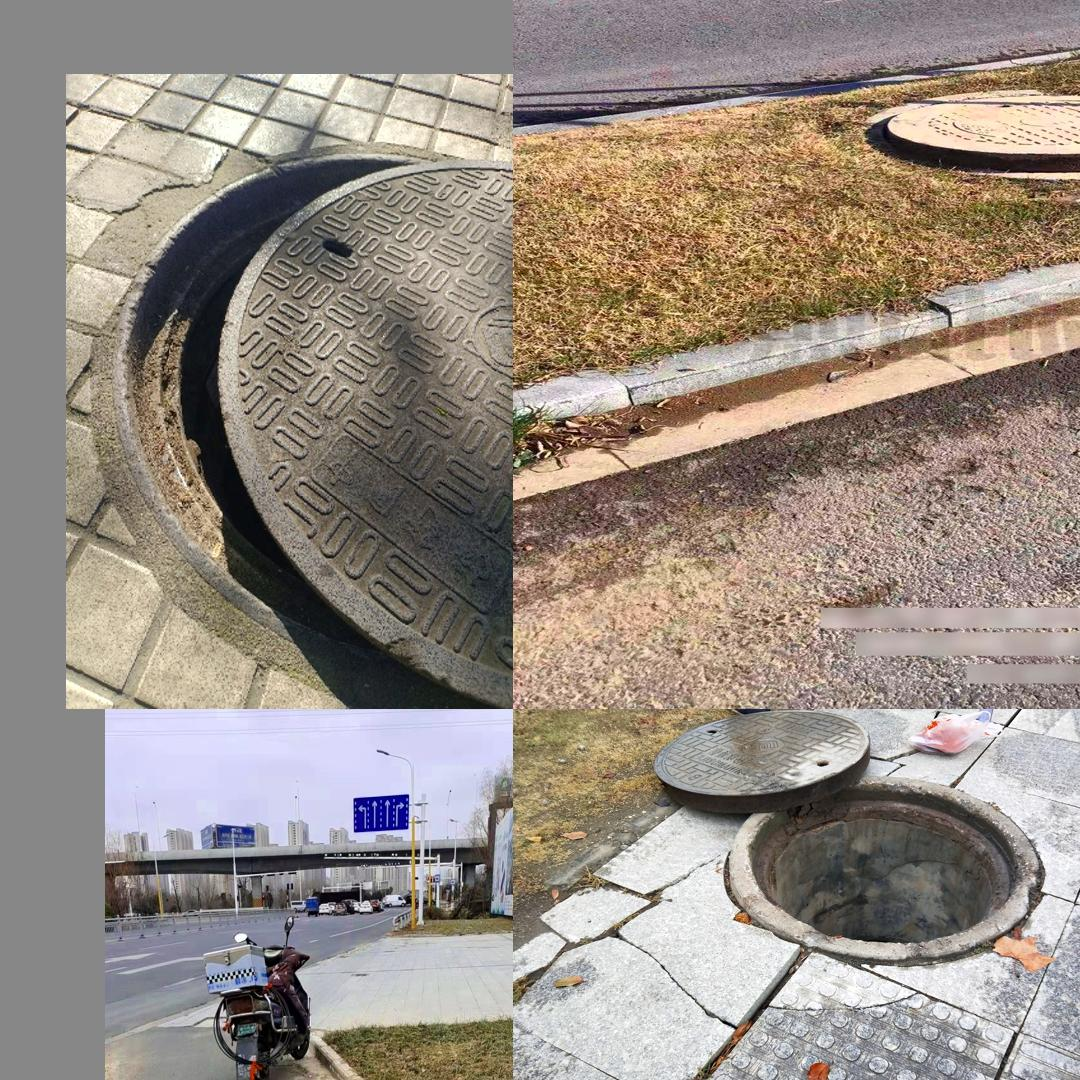uncovered: (108, 147, 511, 709), (655, 709, 1041, 960), (879, 90, 1080, 180)
